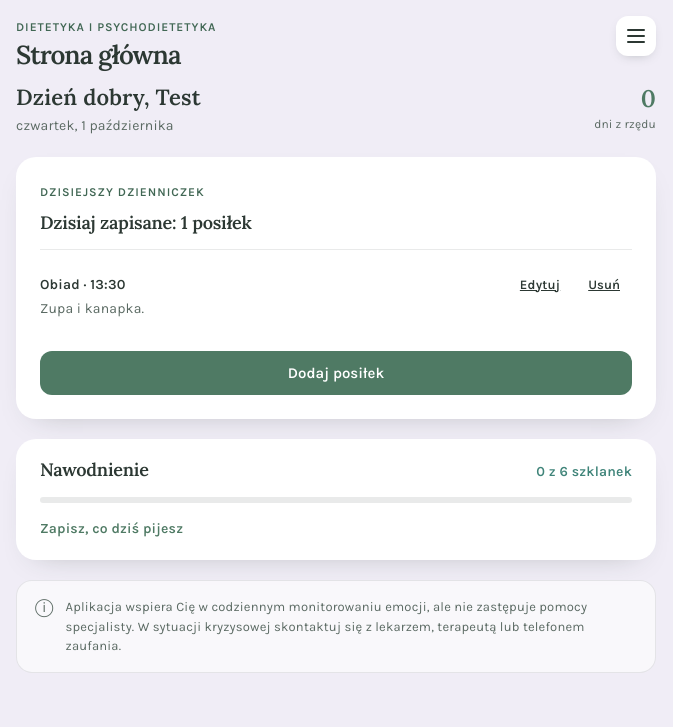
Scenario: today's meals are on the screen and can be corrected › shows the server's own sentence when a delete is refused
Click the button "Usuń" at x=604, y=284, box [576,262,632,306]
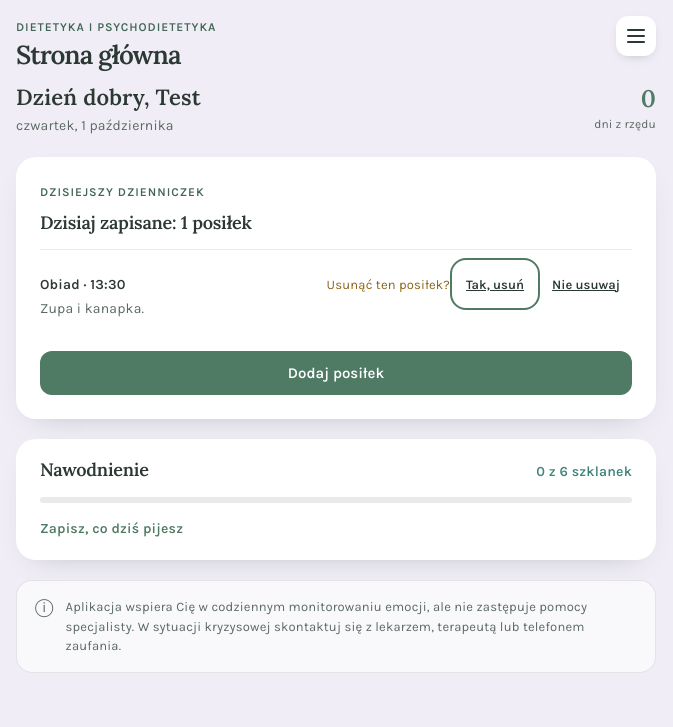
Click the button "Tak, usuń" at x=495, y=284, box [454,262,536,306]
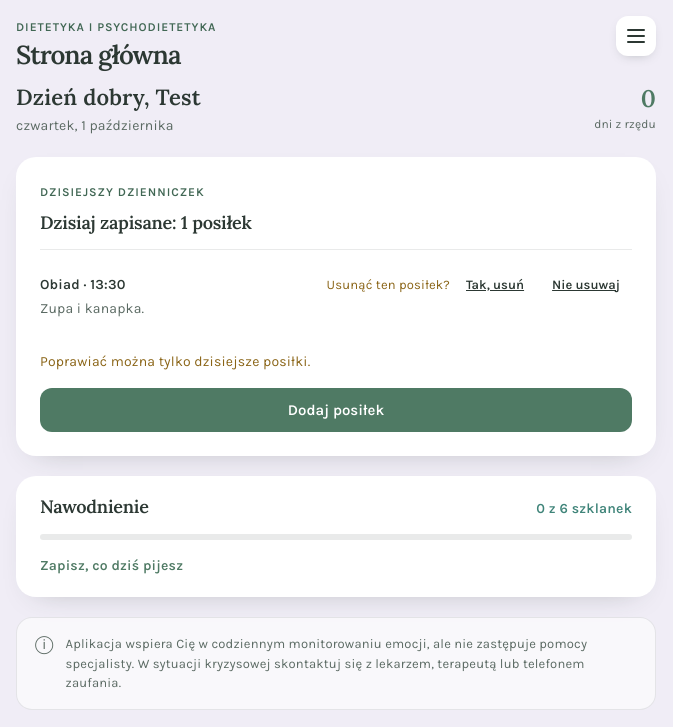
Check: the text "Zupa i kanapka." is shown, box [40,300,144,317]
Check: the text "Poprawiać można tylko dzisiejsze posiłki." is shown, box [40,353,310,370]
